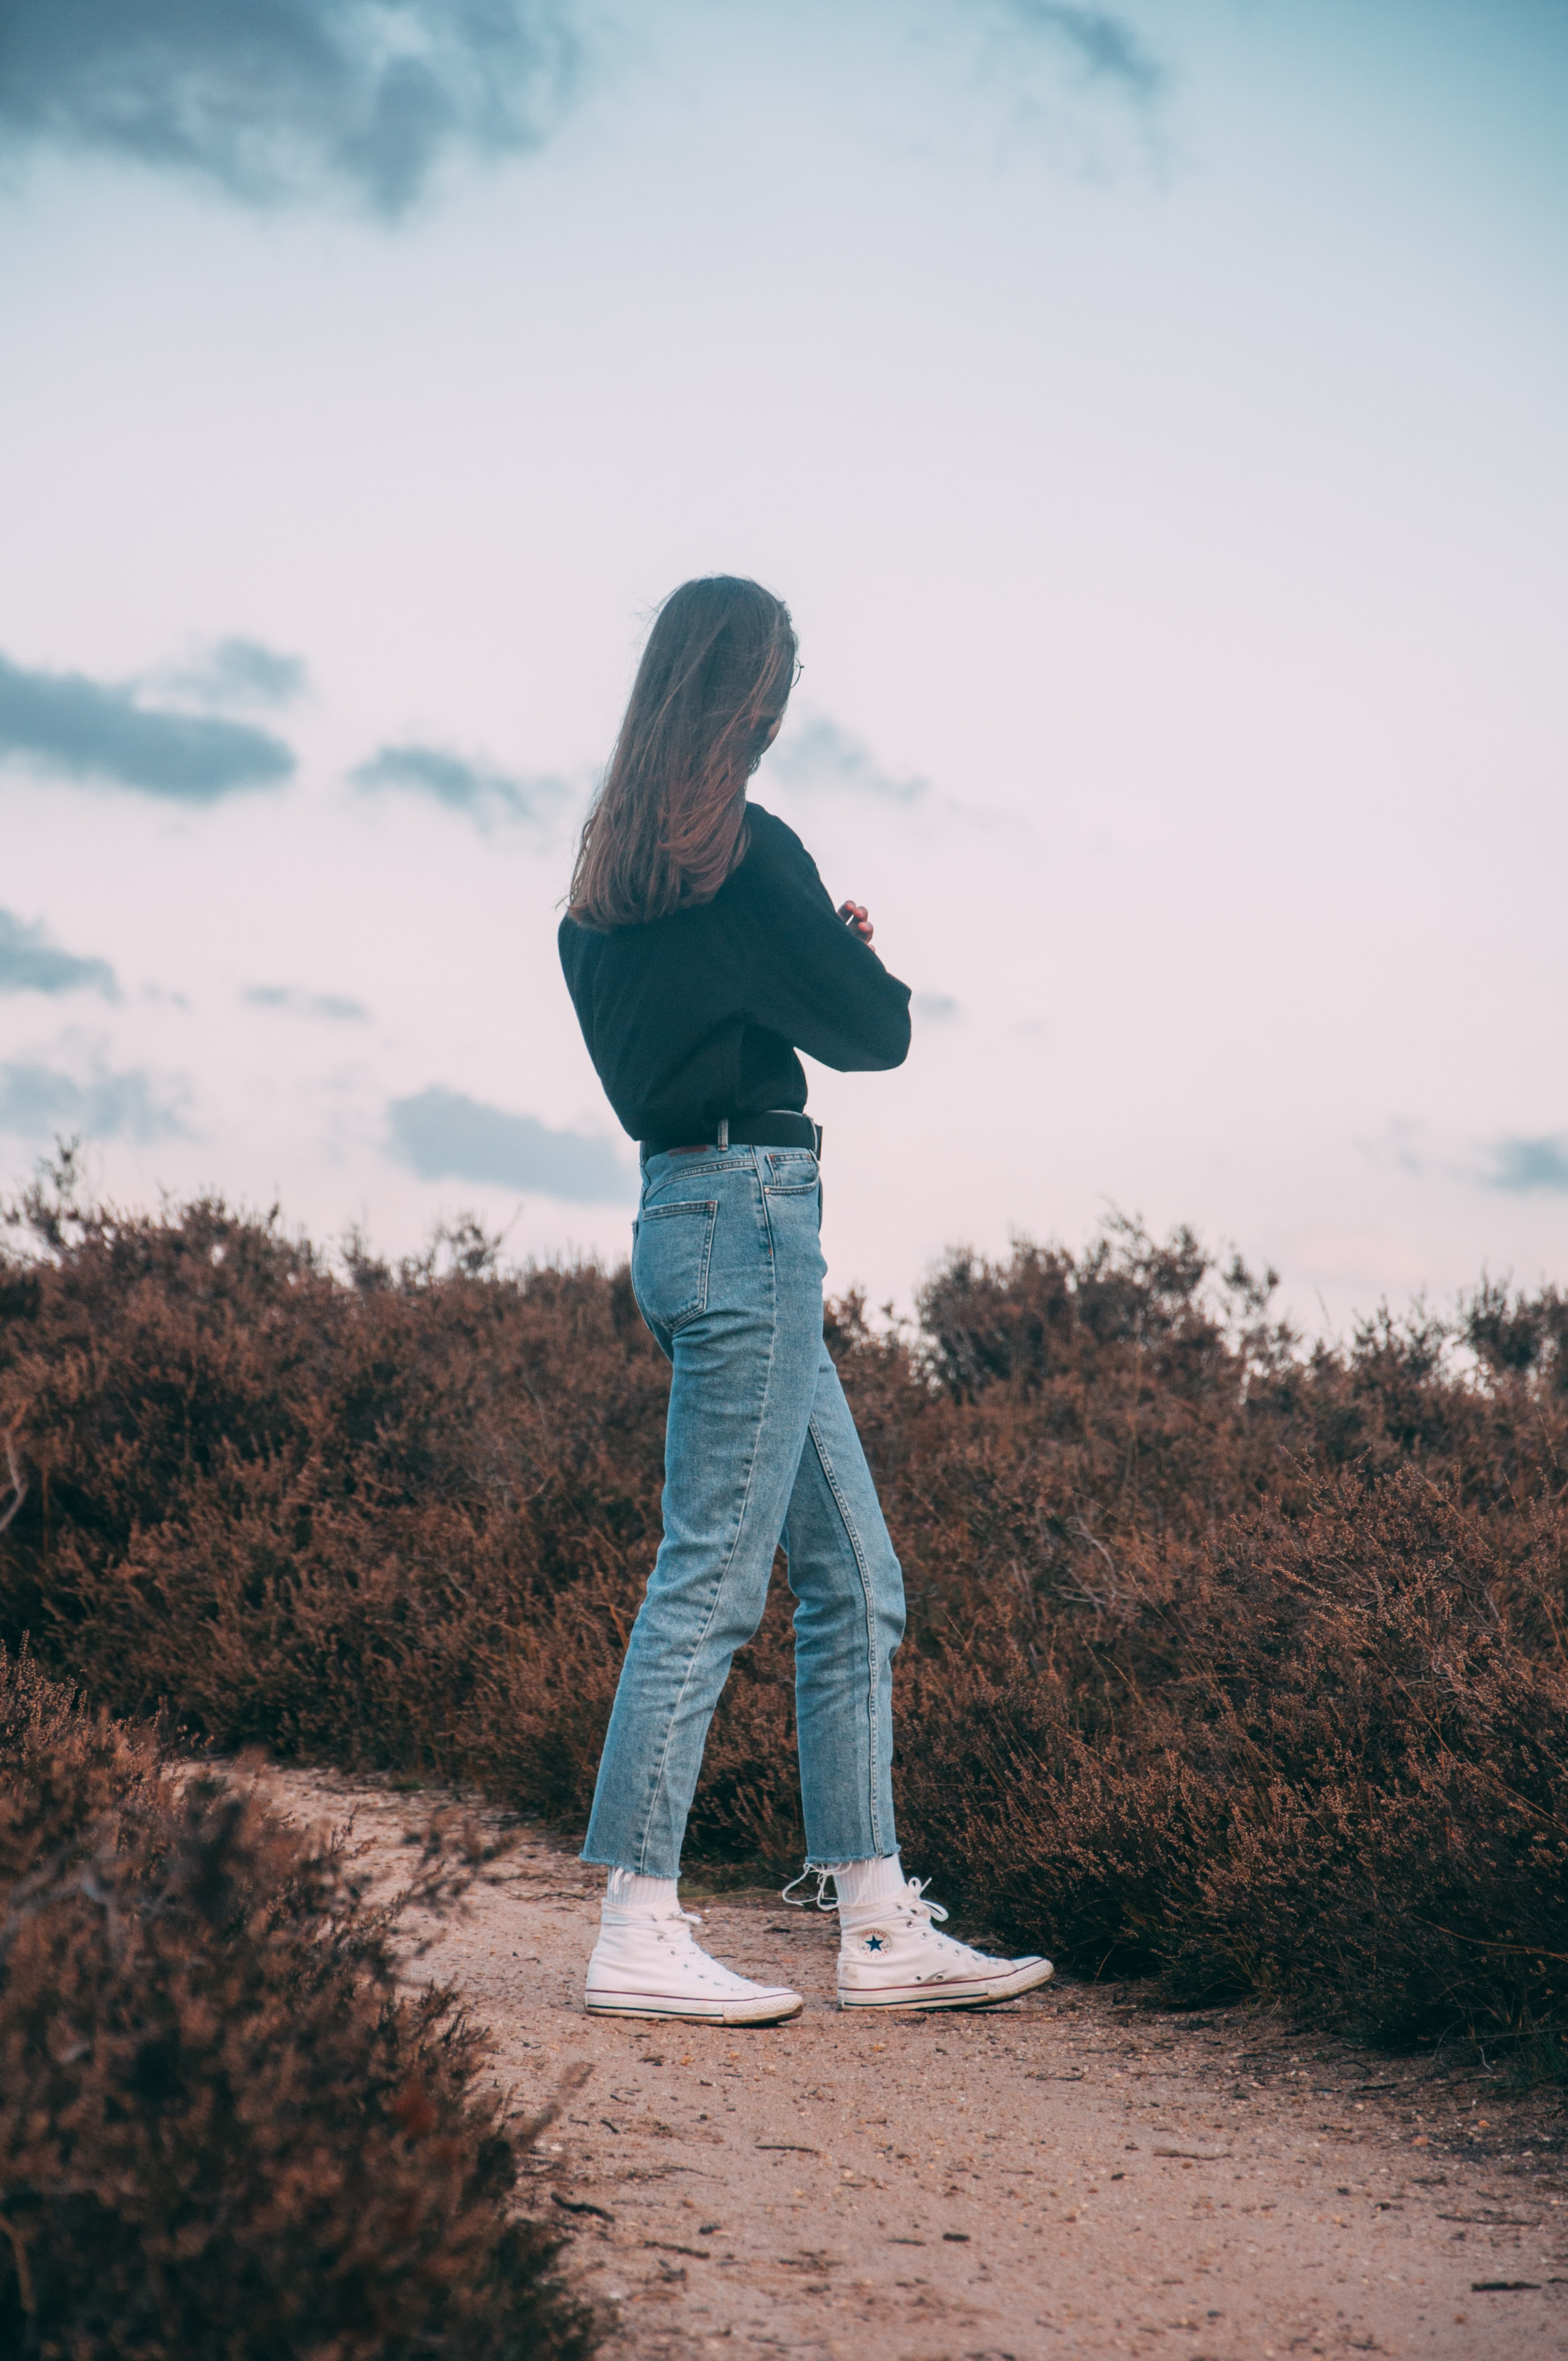person: (556, 574, 1064, 2016)
